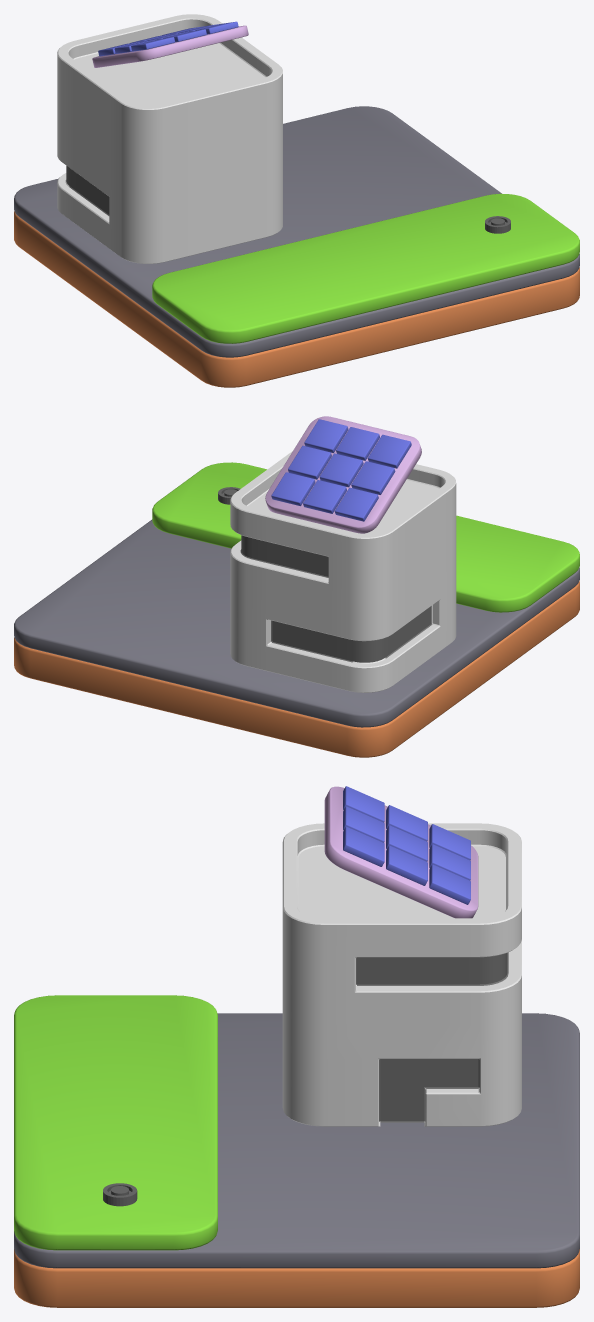
File: building.glb
3 views of the same model, one above another, from view 1: azimuth 30°, elevation 25°; view 2: azimuth 150°, elevation 25°; view 3: azimuth 270°, elevation 25° (orthographic). The views are drawn at different scales.
Visible parts, largest first — view 1: House, Grass, Asphalt, Dirt, SolarPanel, Plane; view 2: House, Asphalt, Dirt, Grass, Plane, SolarPanel; view 3: Asphalt, House, Grass, Dirt, Plane, SolarPanel, Cylinder.
Part boxes in pixels (<box>): House: <box>57,14,282,263</box>; Grass: <box>152,193,579,343</box>; Asphalt: <box>14,106,579,357</box>; Dirt: <box>14,211,579,387</box>; SolarPanel: <box>92,25,248,67</box>; Plane: <box>98,21,238,56</box>; House: <box>230,451,456,692</box>; Asphalt: <box>14,519,579,727</box>; Dirt: <box>14,581,579,757</box>; Grass: <box>152,462,579,612</box>; Plane: <box>271,419,411,521</box>; SolarPanel: <box>265,416,421,533</box>; Asphalt: <box>14,1013,579,1268</box>; House: <box>282,823,521,1126</box>; Grass: <box>14,995,217,1250</box>; Dirt: <box>14,1249,579,1307</box>; Plane: <box>343,786,470,904</box>; SolarPanel: <box>324,786,478,918</box>; Cylinder: <box>103,1183,137,1206</box>.
Size of the model in its own units: 10 by 6.22 by 10.
